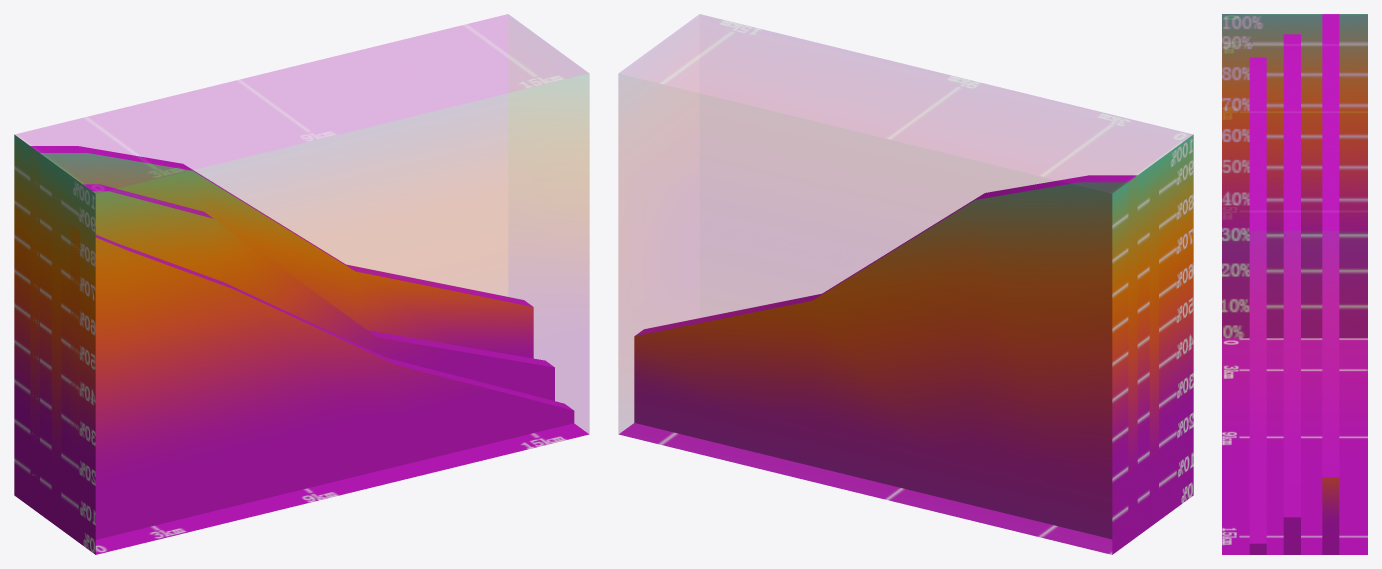
Rendered from tubiao.fbx.
The picture shows the model from 3 angles, left to right: view 1: azimuth 30°, elevation 25°; view 2: azimuth 150°, elevation 25°; view 3: azimuth 270°, elevation 25°; orthographic projection. The views are drawn at different scales.
Parts seen in each view (by area): view 1: pCube2, pCube4, pCube5, pCube3; view 2: pCube2, pCube5, pCube3; view 3: pCube2, pCube5, pCube3, pCube4.
Boxes of the visible parts, left/top/right/bottom form: pCube2: left=14, top=14, right=589, bottom=554; pCube4: left=70, top=225, right=574, bottom=539; pCube5: left=30, top=146, right=533, bottom=513; pCube3: left=51, top=184, right=554, bottom=529; pCube2: left=618, top=14, right=1193, bottom=554; pCube5: left=634, top=175, right=1137, bottom=542; pCube3: left=1149, top=182, right=1158, bottom=527; pCube2: left=1222, top=14, right=1367, bottom=554; pCube5: left=1322, top=14, right=1339, bottom=554; pCube3: left=1283, top=34, right=1300, bottom=554; pCube4: left=1249, top=57, right=1266, bottom=554.
Size of the model in its own units: 110056 by 76894 by 31348.
Materials: 2 (2 with a texture image).
